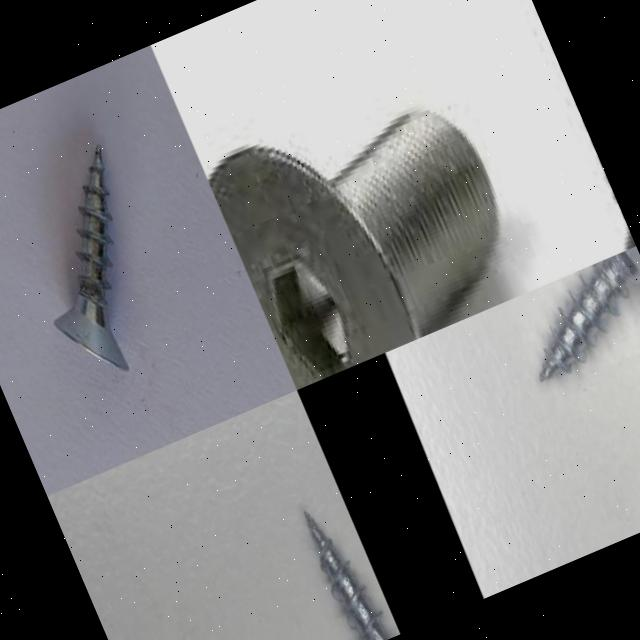Screw: (209, 110, 498, 390), (54, 142, 128, 369), (293, 489, 400, 640), (540, 246, 640, 380)
